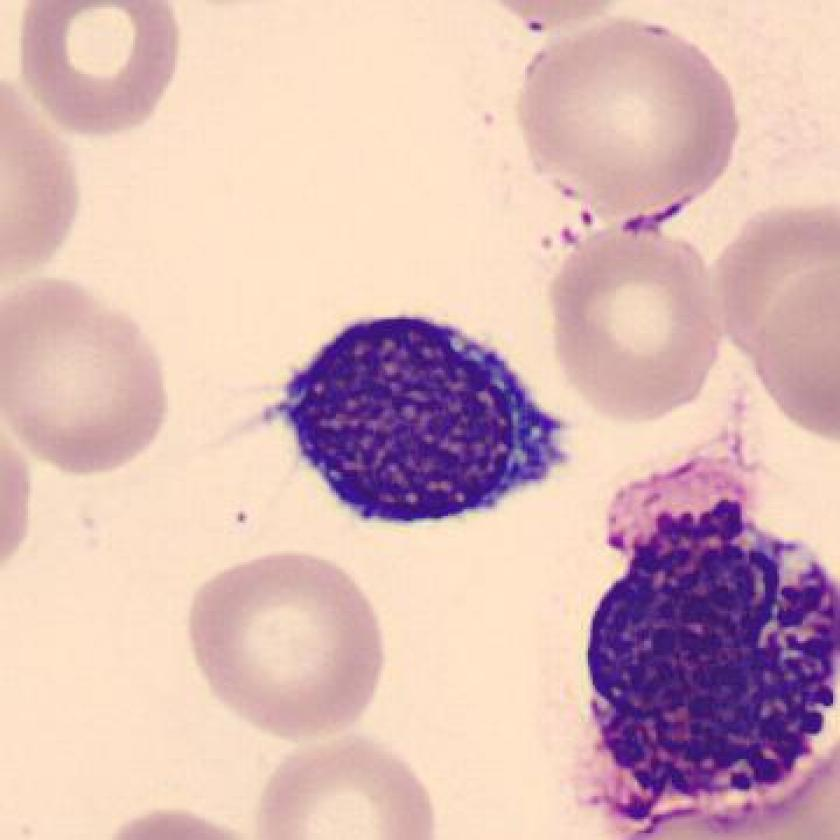lymphocyte: (561, 445, 840, 840), (256, 295, 578, 545)
